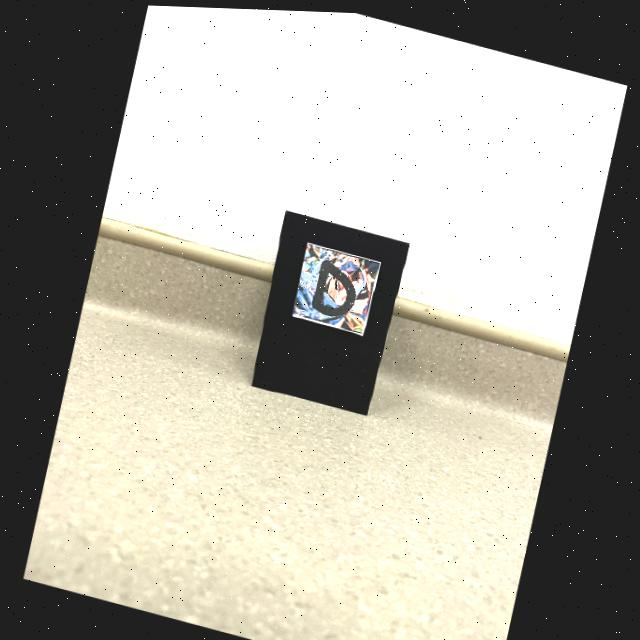D: (311, 258, 355, 314)
